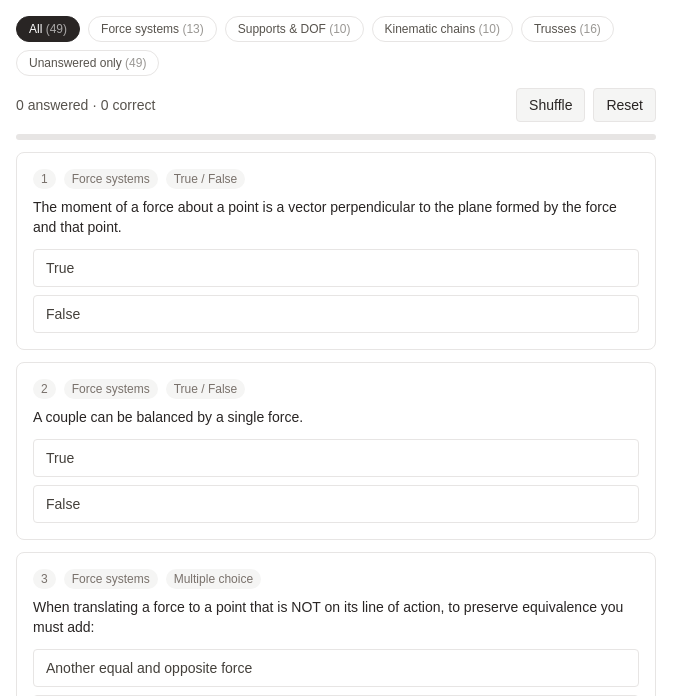
Scenario: ClaudeQuiz › clicking a wrong option shows Incorrect and marks the correct option
Click the 1st button "False" at (63, 314), box [33,295,639,333]
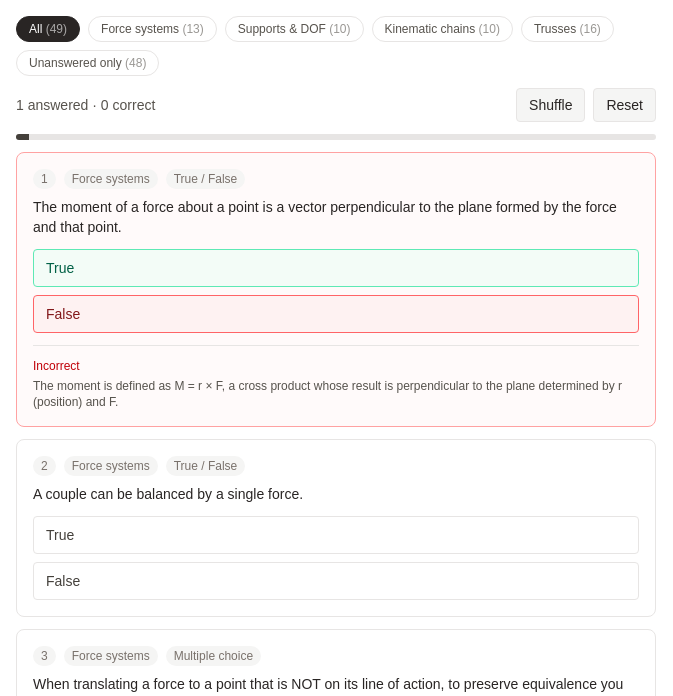
Expected: the text "Incorrect" is shown, [33,359,80,373]
